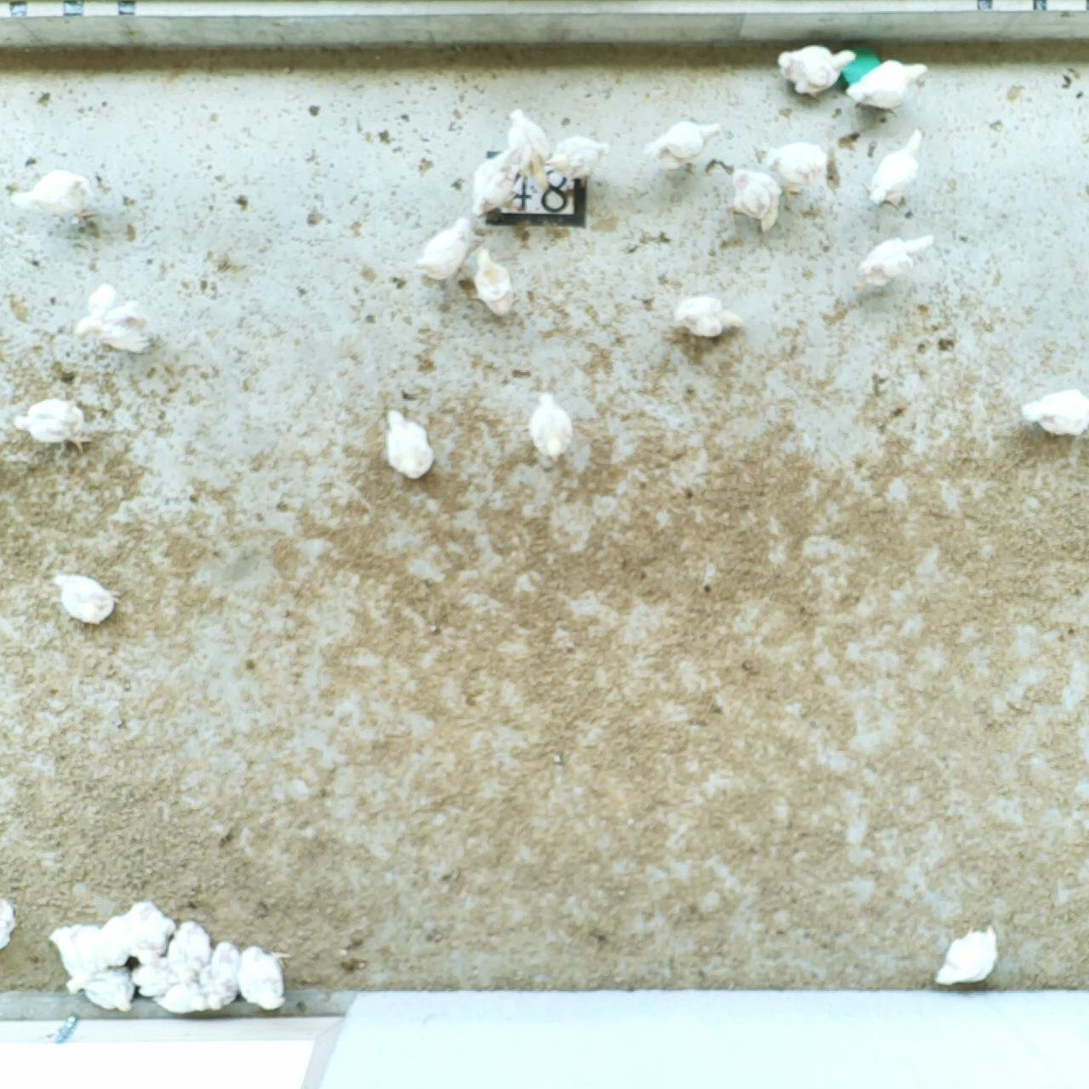chicken: (848, 224, 941, 299), (70, 279, 154, 359), (7, 163, 100, 234), (7, 388, 102, 456), (859, 122, 929, 212), (847, 52, 932, 115), (647, 115, 726, 181), (934, 919, 1003, 992), (374, 404, 438, 482), (412, 214, 483, 284), (776, 40, 856, 99), (523, 385, 580, 465), (235, 939, 295, 1012), (467, 145, 521, 226), (50, 571, 123, 630), (667, 288, 747, 341), (505, 105, 553, 193), (763, 133, 830, 196), (726, 165, 785, 236), (1018, 381, 1089, 438), (545, 131, 614, 186), (473, 246, 521, 320), (45, 921, 87, 997), (126, 898, 172, 964), (205, 939, 244, 1005), (82, 968, 139, 1013), (170, 918, 210, 981), (152, 977, 210, 1017), (130, 950, 176, 998), (95, 914, 131, 970), (77, 923, 109, 974), (0, 893, 20, 955)
